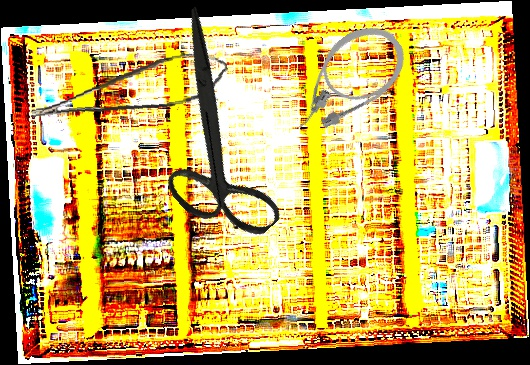Cannula: (272, 12, 418, 147)
Iris Scissors: (88, 6, 341, 262)
Micro Scissor: (26, 48, 232, 124)
